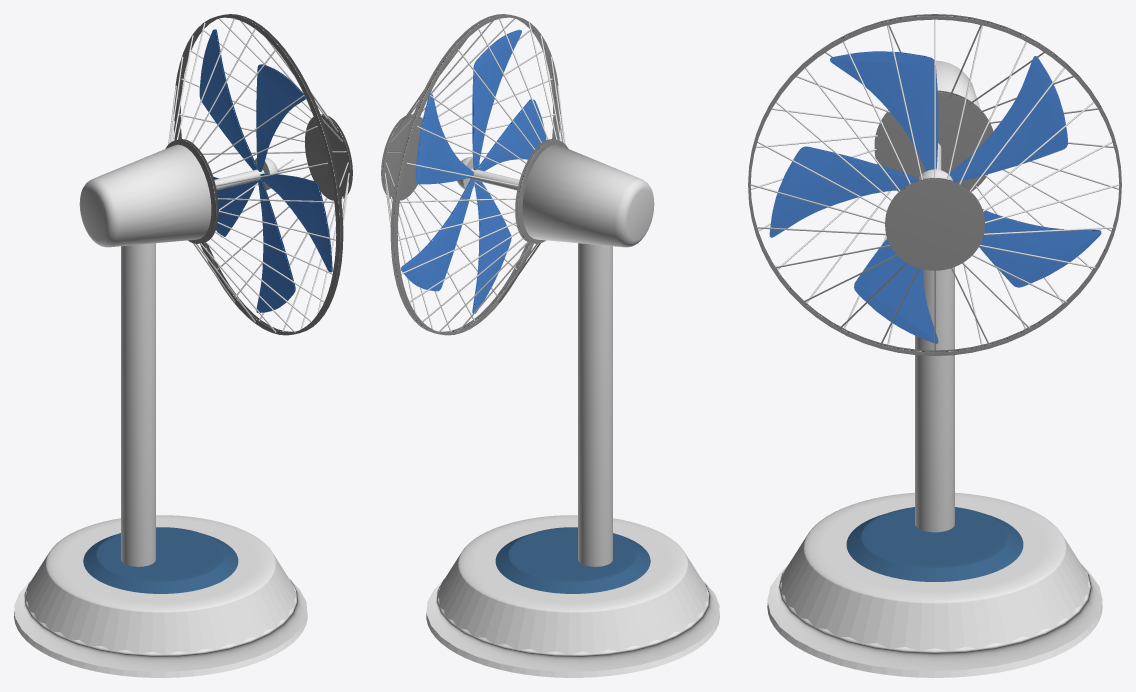
File: circulator.fbx
3 views of the same model, side by side, from view 1: azimuth 30°, elevation 25°; view 2: azimuth 150°, elevation 25°; view 3: azimuth 270°, elevation 25° (orthographic). The views are drawn at different scales.
Visible parts, largest first — view 1: Cylinder, Pole, FrameBase, Frame, Cylinder.001, Base, Wing.004, Wing.001, Wing.002, Wing, Wing.003, WingCenter; view 2: Cylinder, Pole, FrameBase, Frame, Cylinder.001, Base, Wing, Wing.003, Wing.004, Wing.002, Wing.001, WingCenter; view 3: Cylinder, Frame, Cylinder.001, Pole, Base, Wing, Wing.004, Wing.001, Wing.003, Wing.002, FrameBase.
Part boxes in pixels (x1,y1,x2,y2): Cylinder: [14, 515, 307, 677]; Pole: [121, 243, 155, 566]; FrameBase: [79, 144, 211, 247]; Frame: [165, 14, 352, 335]; Cylinder.001: [83, 527, 238, 593]; Base: [14, 578, 307, 671]; Wing.004: [199, 29, 257, 170]; Wing.001: [260, 173, 332, 272]; Wing.002: [256, 179, 295, 312]; Wing: [256, 64, 305, 171]; Wing.003: [213, 176, 257, 237]; WingCenter: [214, 157, 278, 190]; Cylinder: [426, 515, 719, 677]; Pole: [578, 243, 612, 566]; FrameBase: [522, 144, 654, 247]; Frame: [381, 14, 568, 335]; Cylinder.001: [495, 527, 650, 593]; Base: [426, 578, 719, 671]; Wing: [472, 29, 521, 170]; Wing.003: [401, 178, 474, 291]; Wing.004: [415, 94, 473, 184]; Wing.002: [472, 180, 511, 313]; Wing.001: [478, 99, 546, 171]; WingCenter: [457, 156, 519, 190]; Cylinder: [767, 492, 1102, 677]; Frame: [748, 14, 1121, 355]; Cylinder.001: [846, 507, 1023, 581]; Pole: [915, 267, 954, 532]; Base: [767, 564, 1102, 670]; Wing: [830, 51, 938, 170]; Wing.004: [949, 56, 1067, 182]; Wing.001: [769, 146, 917, 237]; Wing.003: [979, 209, 1101, 287]; Wing.002: [854, 238, 938, 343]; FrameBase: [935, 60, 980, 108].
Size of the model in its own units: 70.12 by 66.87 by 127.
